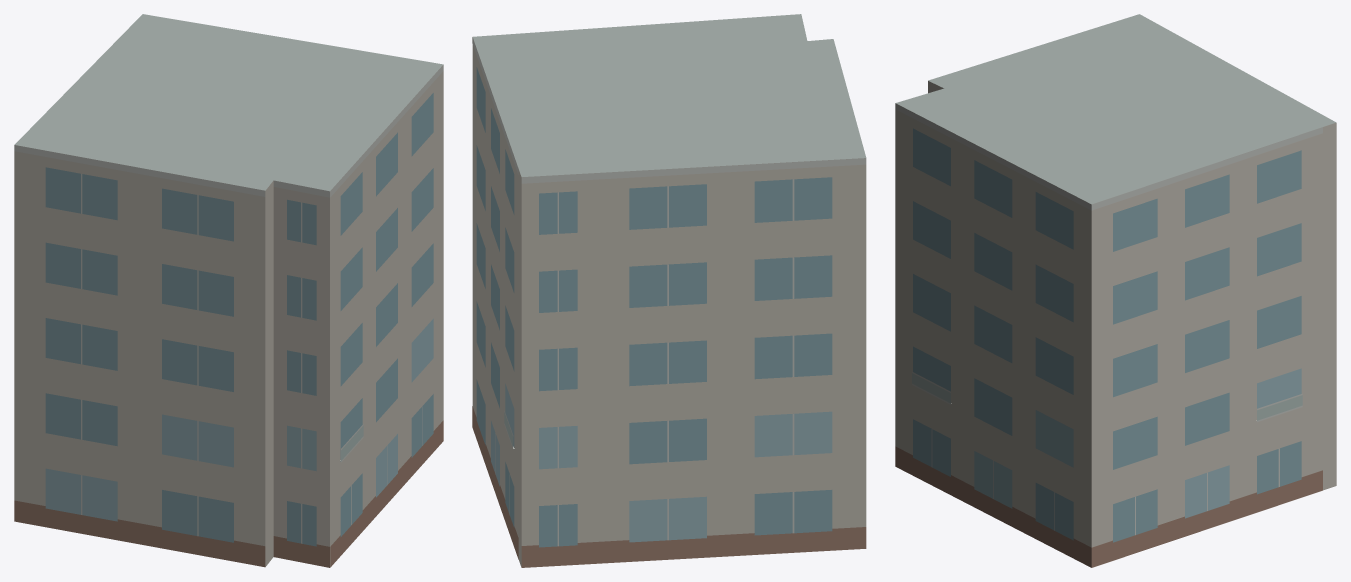
File: survey-upis-32568327.glb
3 views of the same model, side by side, from view 1: azimuth 30°, elevation 25°; view 2: azimuth 150°, elevation 25°; view 3: azimuth 270°, elevation 25° (orthographic). The views are drawn at different scales.
Parts seen in each view (by area): view 1: survey-upis-32568327.tmp; view 2: survey-upis-32568327.tmp; view 3: survey-upis-32568327.tmp.
Part boxes in pixels (box(x1,y1,x2,y2)): survey-upis-32568327.tmp: box(14, 14, 443, 567); survey-upis-32568327.tmp: box(472, 14, 866, 567); survey-upis-32568327.tmp: box(895, 14, 1336, 567).
Size of the model in its own units: 16.19 by 14.4 by 15.85.
